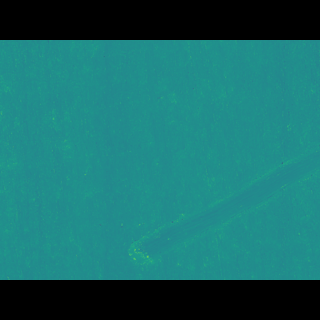Loch: (126, 147, 319, 240)
